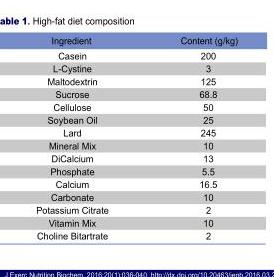table: (35, 34, 236, 240)
table column: (35, 34, 143, 240), (143, 34, 236, 240)
table column header: (35, 34, 236, 47)
table row: (35, 47, 236, 61), (35, 34, 236, 47), (35, 61, 236, 74), (35, 74, 236, 87), (35, 87, 236, 100), (35, 100, 236, 113), (35, 125, 236, 138), (35, 138, 236, 151), (35, 151, 236, 164), (35, 164, 236, 177), (35, 177, 236, 190), (35, 190, 236, 203), (35, 215, 236, 228), (35, 113, 236, 125), (35, 203, 236, 215), (35, 228, 236, 240)
